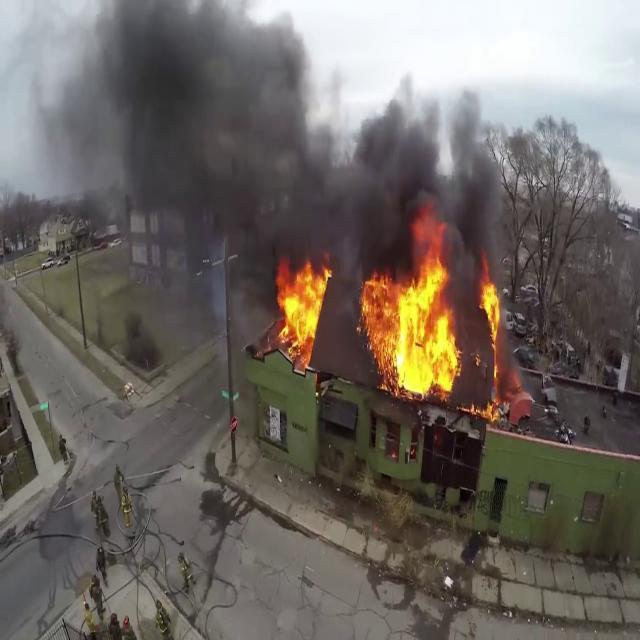Fire: (360, 242, 466, 402), (270, 256, 332, 365), (478, 270, 506, 416)
Smoke: (54, 0, 504, 283)
